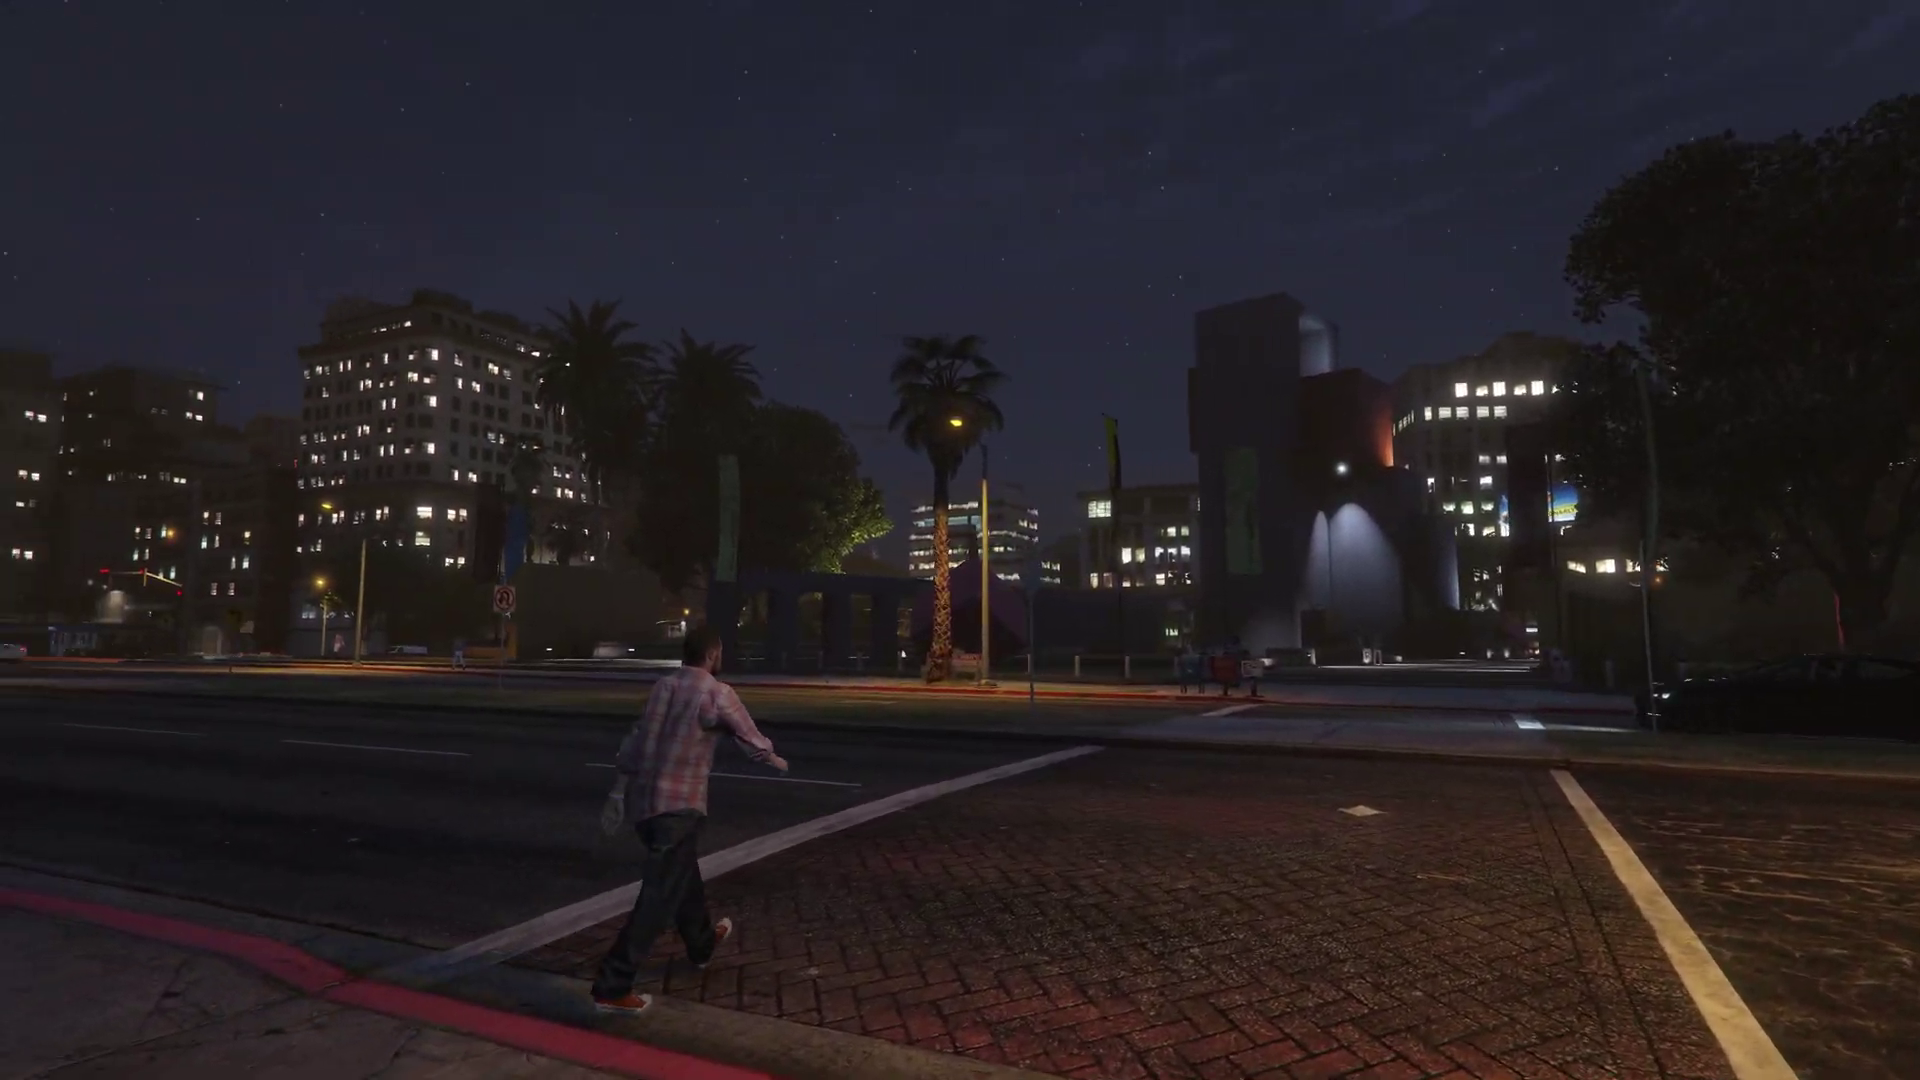car: (1640, 648, 1920, 739)
person: (587, 626, 795, 1015)
